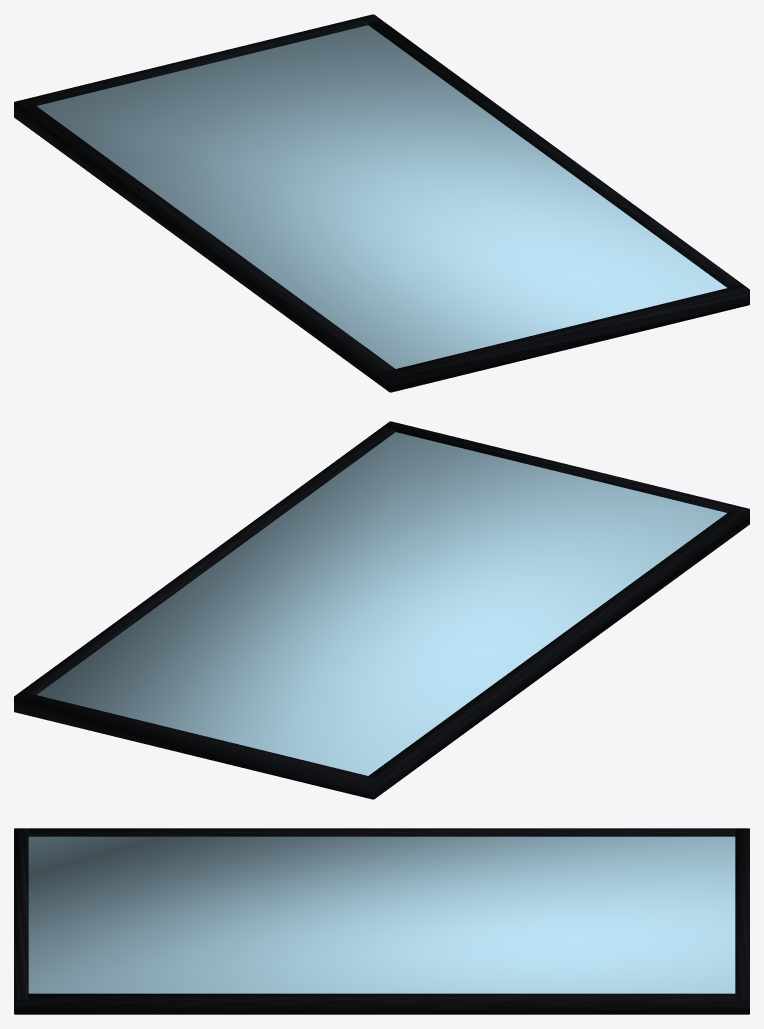
The model's file is ARCH_GLASS_PARTITION_001.glb.
The picture shows the model from 3 angles, top to bottom: view 1: azimuth 30°, elevation 25°; view 2: azimuth 150°, elevation 25°; view 3: azimuth 270°, elevation 25°; orthographic projection. The views are drawn at different scales.
Parts seen in each view (by area): view 1: glass_panel_000, side_frame_003, top_frame_001, side_frame_004, bottom_frame_002; view 2: glass_panel_000, side_frame_003, bottom_frame_002, side_frame_004, top_frame_001; view 3: glass_panel_000, side_frame_004, side_frame_003, top_frame_001, bottom_frame_002.
Part boxes in pixels (left/top/right/bottom): glass_panel_000: left=37, top=25, right=726, bottom=368; side_frame_003: left=14, top=99, right=400, bottom=392; top_frame_001: left=384, top=284, right=749, bottom=392; side_frame_004: left=365, top=14, right=749, bottom=304; bottom_frame_002: left=14, top=14, right=379, bottom=107; glass_panel_000: left=37, top=432, right=726, bottom=775; side_frame_003: left=365, top=506, right=749, bottom=799; bottom_frame_002: left=14, top=691, right=379, bottom=799; side_frame_004: left=14, top=421, right=399, bottom=711; top_frame_001: left=384, top=421, right=749, bottom=513; glass_panel_000: left=28, top=836, right=735, bottom=993; side_frame_004: left=14, top=993, right=749, bottom=1014; side_frame_003: left=15, top=828, right=748, bottom=836; top_frame_001: left=14, top=828, right=28, bottom=1014; bottom_frame_002: left=735, top=828, right=749, bottom=1014.
Bounding box in the file's own units: 1.25 × 0.05 × 2.26.
Materials: 2 (2 with a texture image).
